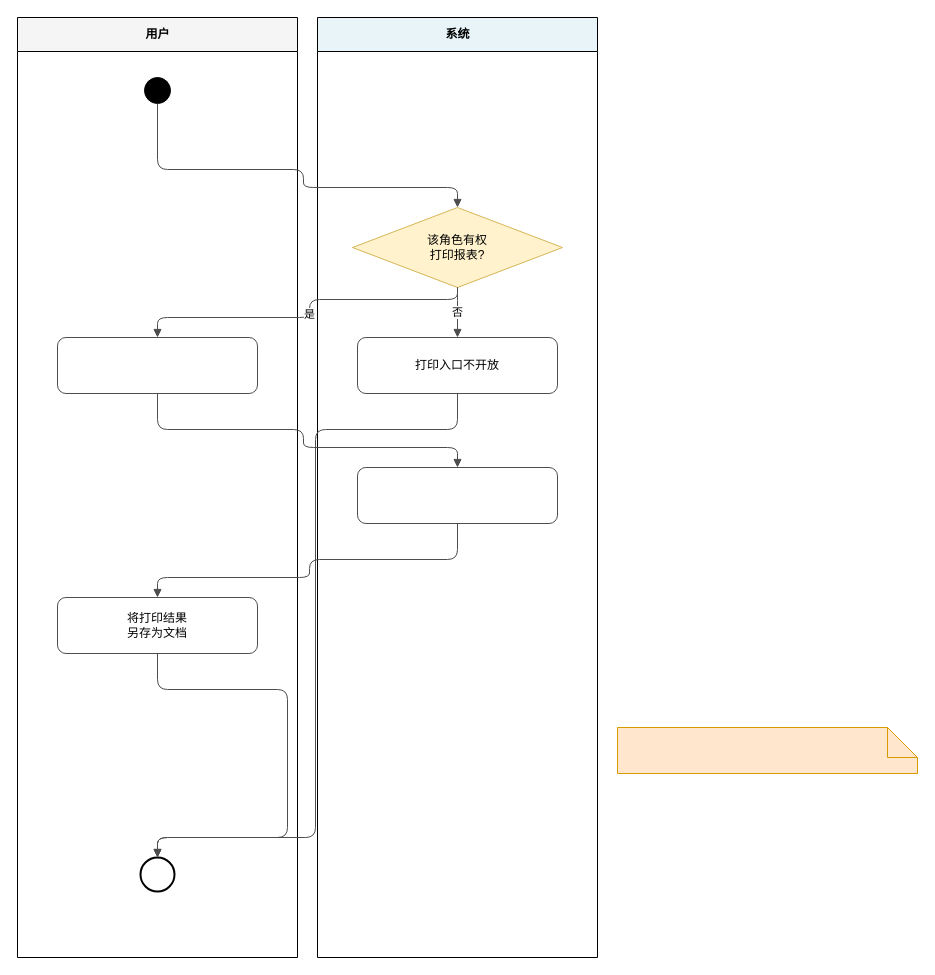
The diagram is 935 pixels wide and 975 high, and some of its shapes have lost their labels. The shapes that lost their labels are listed below. From the top down, each one's centre as x and y in pixels, then its label:
the point at 157,365: 选择打印 当前报表
the point at 457,495: 只呈现报表正文 隐去导航与按钮
the point at 767,750: 输出范围是当前的页面内容，不是全量数据
